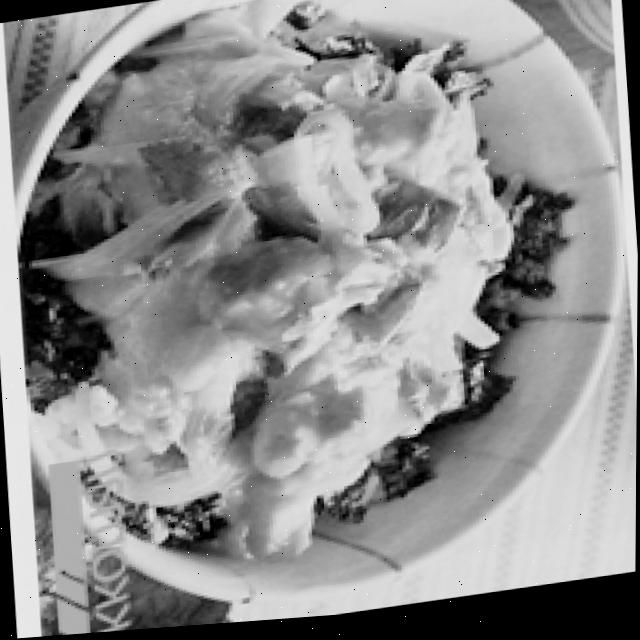米饭主食: (103, 0, 640, 634)
